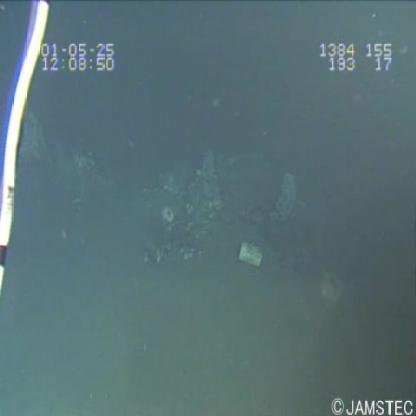Rov: (1, 1, 59, 306)
Rác: (234, 236, 267, 272)
